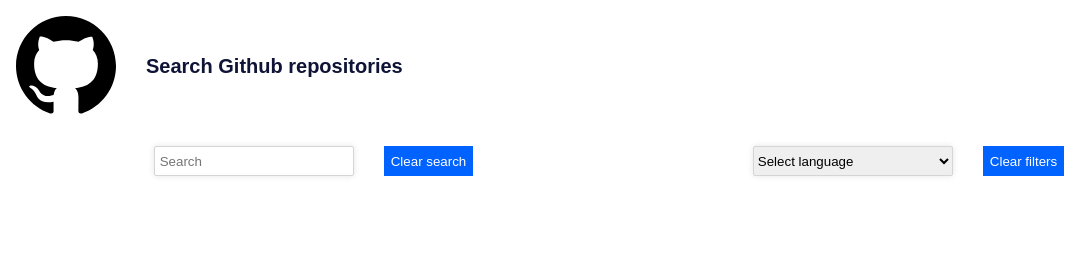
Test: Api error should display error message
Type "error" into the field with test id "search-input" at (254, 161), box [154,146,354,176]
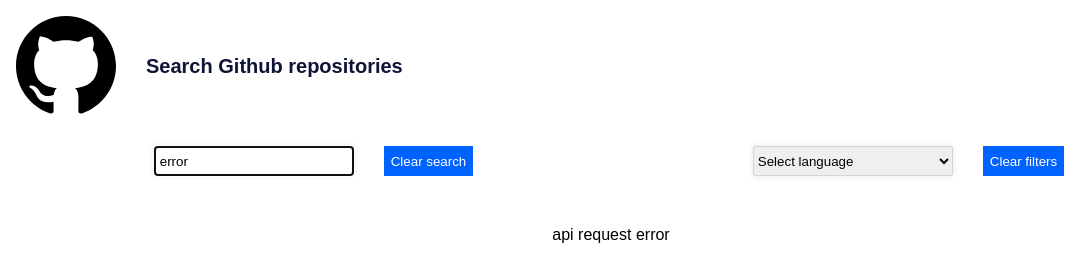
Now the text "api request error" is shown, box [552,226,670,243]
